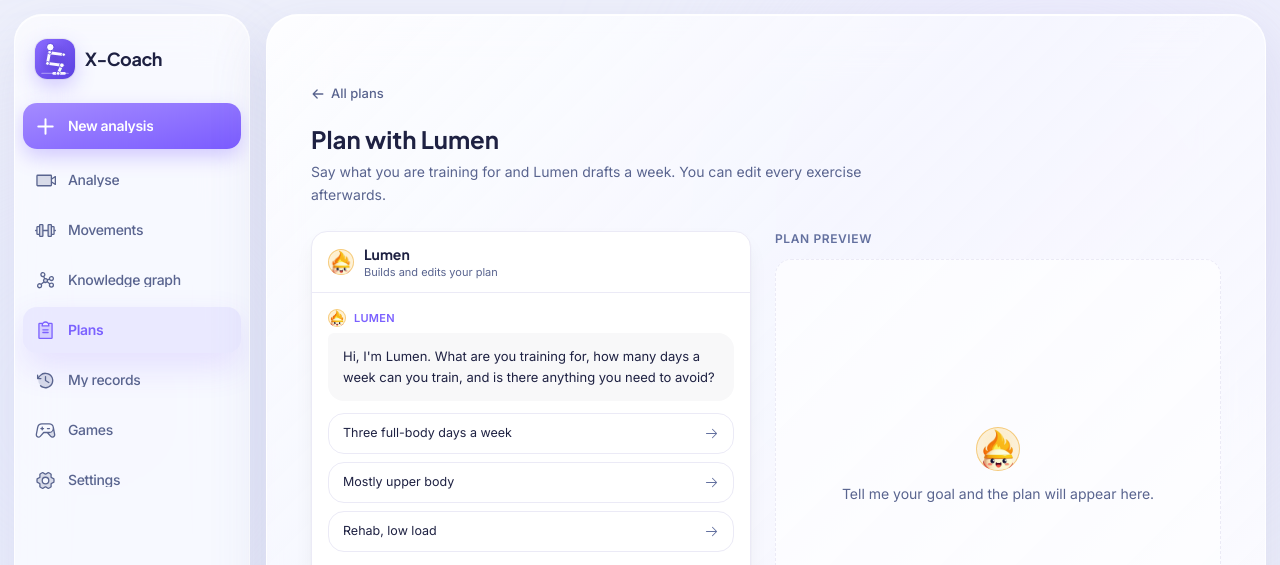
PlanBuilder › fills the preview and offers the CTA once the stream reports a plan
Click the button "Three full-body days a week" at {"x": 427, "y": 433}, box [328,413,734,454]
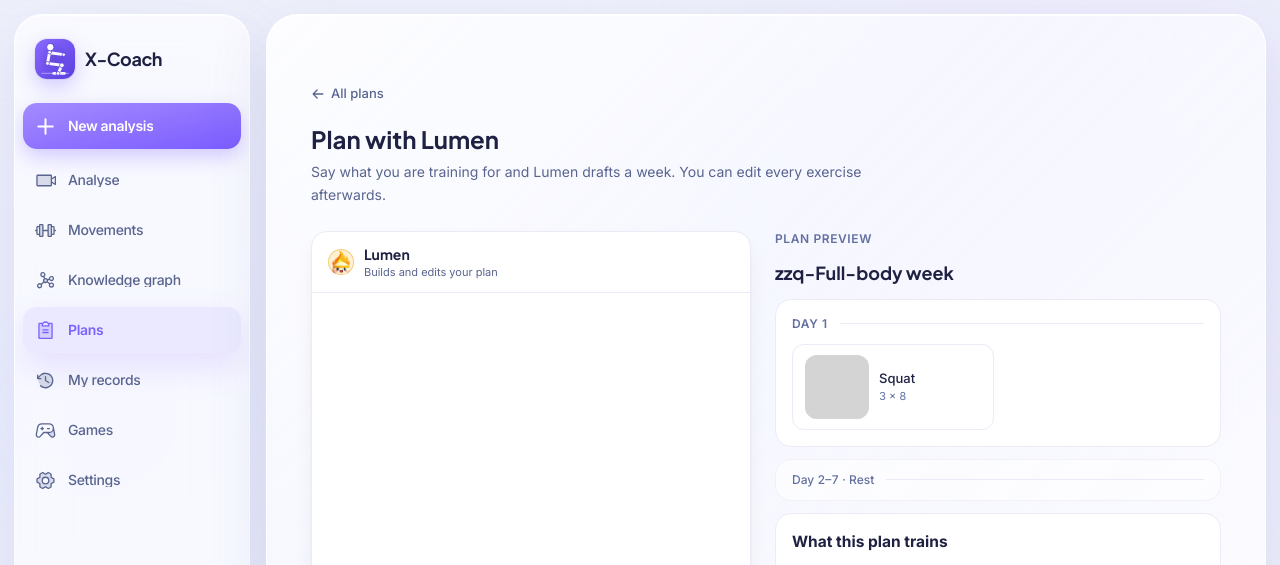
Check: the text "zzq-Full-body week" is shown, box [775,260,954,284]
Check: the text "Squat" is shown, box [879,370,915,386]
Check: the text "3 × 8" is shown, box [879,389,906,403]
